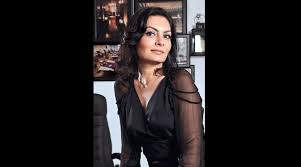middle_eastern_Female: (124, 8, 180, 71)
